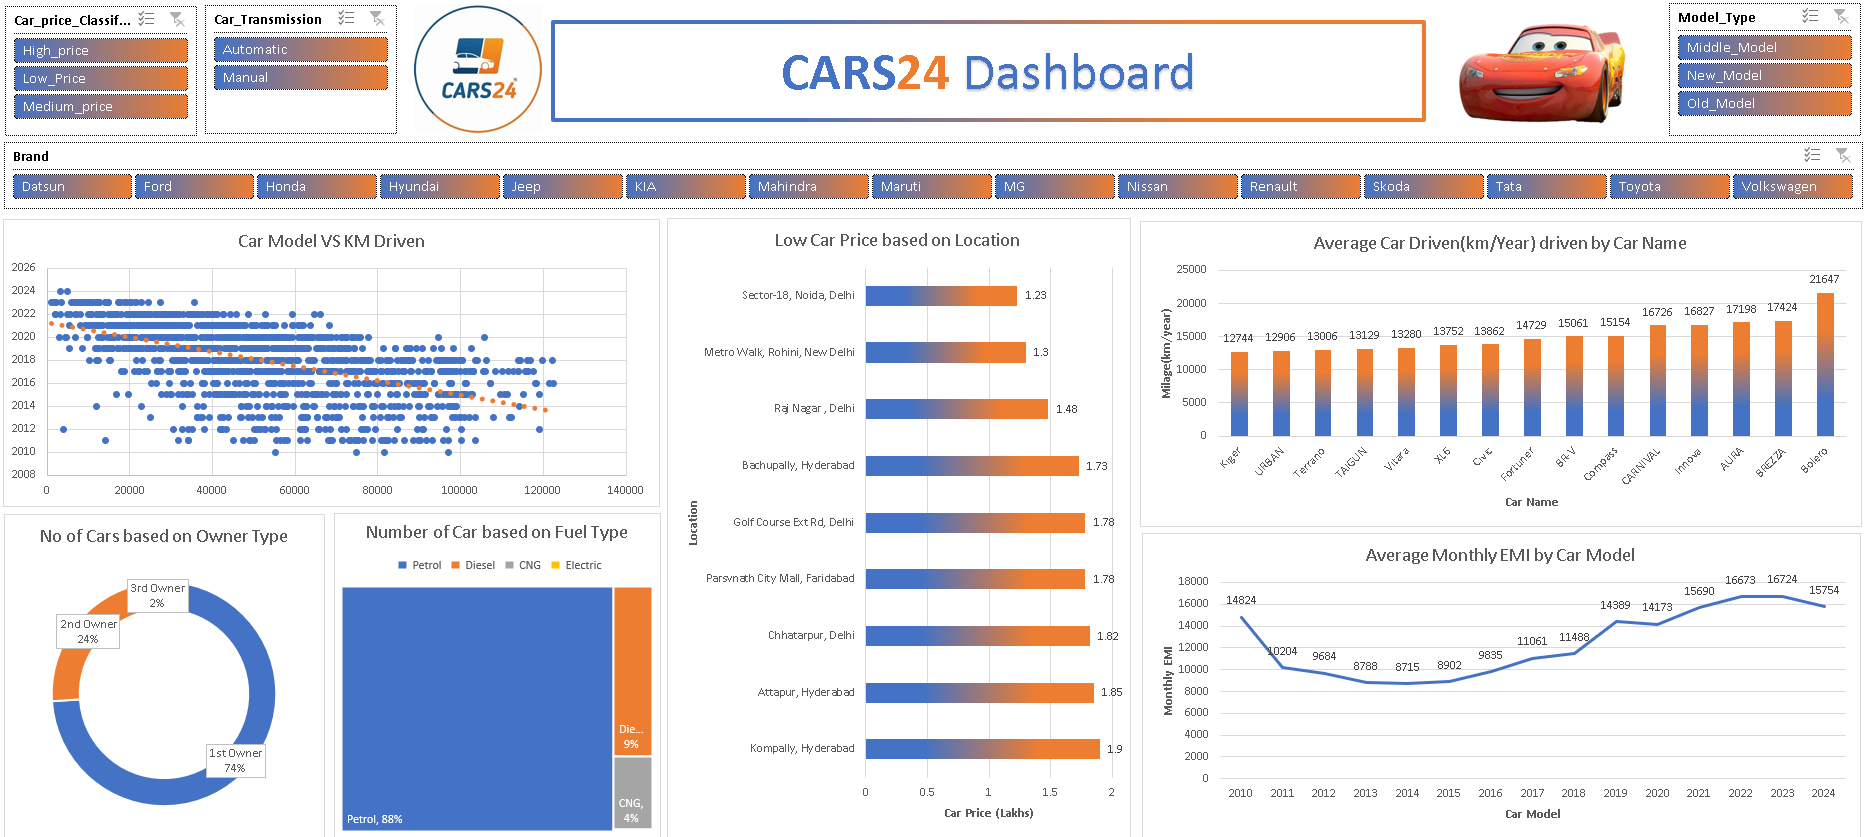

What the dashboard file says about the page in this screenshot:
{"tool":"powerbi","page":{"name":"Dashboard","canvas":[1280,720],"ordinal":0},"visuals":[{"type":"scatterChart","title":"KM_Driven Vs Car_Model","fields":{"X":["car_data.KM_Driven"],"Y":["car_data.Car_Model"]},"box":[834.7,454.1,445.3,265.1],"z":0},{"type":"clusteredBarChart","title":"low Car_Price(lakh) by Location","fields":{"Y":["Min(car_data.Car_Price(lakh))"],"Category":["car_data.Location"]},"box":[515,182.7,319.7,537.9],"z":1000},{"type":"donutChart","title":"Count of Cars by Owner_Type","fields":{"Category":["car_data.Owner_Type"],"Y":["CountNonNull(car_data.Brand)"]},"box":[0,446.5,239.8,272.7],"z":2000},{"type":"treemap","fields":{"Group":["car_data.Fuel_Type"],"Values":["CountNonNull(car_data.Brand)"]},"box":[239.8,446.5,275.3,274],"z":3000},{"type":"lineChart","fields":{"Y":["Avg(car_data.Monthly_EMI)"],"Category":["car_data.Car_Model"]},"box":[0,182.7,515,263.9],"z":4000},{"type":"clusteredColumnChart","fields":{"Y":["Min(car_data.KM_Driven)"],"Category":["car_data.Car_Name"]},"box":[834.7,182.7,445.3,268.9],"z":5000},{"type":"image","box":[341.2,0,672.3,118],"z":6000},{"type":"image","box":[1013.6,0,118,93.9],"z":7000},{"type":"image","box":[246.1,0,95.1,118],"z":8000},{"type":"advancedSlicerVisual","fields":{"Values":["car_data.Brand"]},"box":[0,118,1280,64.7],"z":9000},{"type":"advancedSlicerVisual","fields":{"Values":["car_data.Price_Type"]},"box":[0,0,120.1,117.8],"z":10000},{"type":"advancedSlicerVisual","fields":{"Values":["car_data.Car_Transmission"]},"box":[1131.5,0,148.4,118],"z":11000},{"type":"advancedSlicerVisual","fields":{"Values":["car_data.Model_Type"]},"box":[120.5,0,125.6,118],"z":12000}]}

Visuals, with their boxes on the page's 1280x720 design canvas (x1, y1, x2, y2). These are canvas units, not pixel positions in the 1866x837 screenshot, which may show the page scaled, cropped or inside an application window:
"KM_Driven Vs Car_Model" scatterChart: <box>835,454,1280,719</box>
"low Car_Price(lakh) by Location" clusteredBarChart: <box>515,183,835,721</box>
"Count of Cars by Owner_Type" donutChart: <box>0,446,240,719</box>
treemap - car_data.Fuel_Type x CountNonNull(car_data.Brand): <box>240,446,515,720</box>
lineChart - Avg(car_data.Monthly_EMI) x car_data.Car_Model: <box>0,183,515,447</box>
clusteredColumnChart - Min(car_data.KM_Driven) x car_data.Car_Name: <box>835,183,1280,452</box>
image: <box>341,0,1014,118</box>
image: <box>1014,0,1132,94</box>
image: <box>246,0,341,118</box>
advancedSlicerVisual - car_data.Brand: <box>0,118,1280,183</box>
advancedSlicerVisual - car_data.Price_Type: <box>0,0,120,118</box>
advancedSlicerVisual - car_data.Car_Transmission: <box>1132,0,1280,118</box>
advancedSlicerVisual - car_data.Model_Type: <box>120,0,246,118</box>
